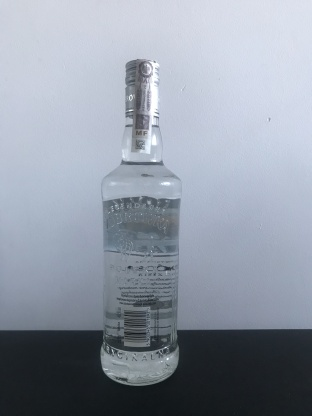nakretka: (122, 55, 162, 121)
